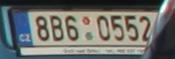0: (97, 15, 111, 42)
2: (140, 15, 152, 42)
5: (125, 15, 139, 41), (111, 15, 124, 42)
6: (64, 14, 79, 41)
8: (36, 16, 50, 41)
B: (50, 14, 64, 42)
